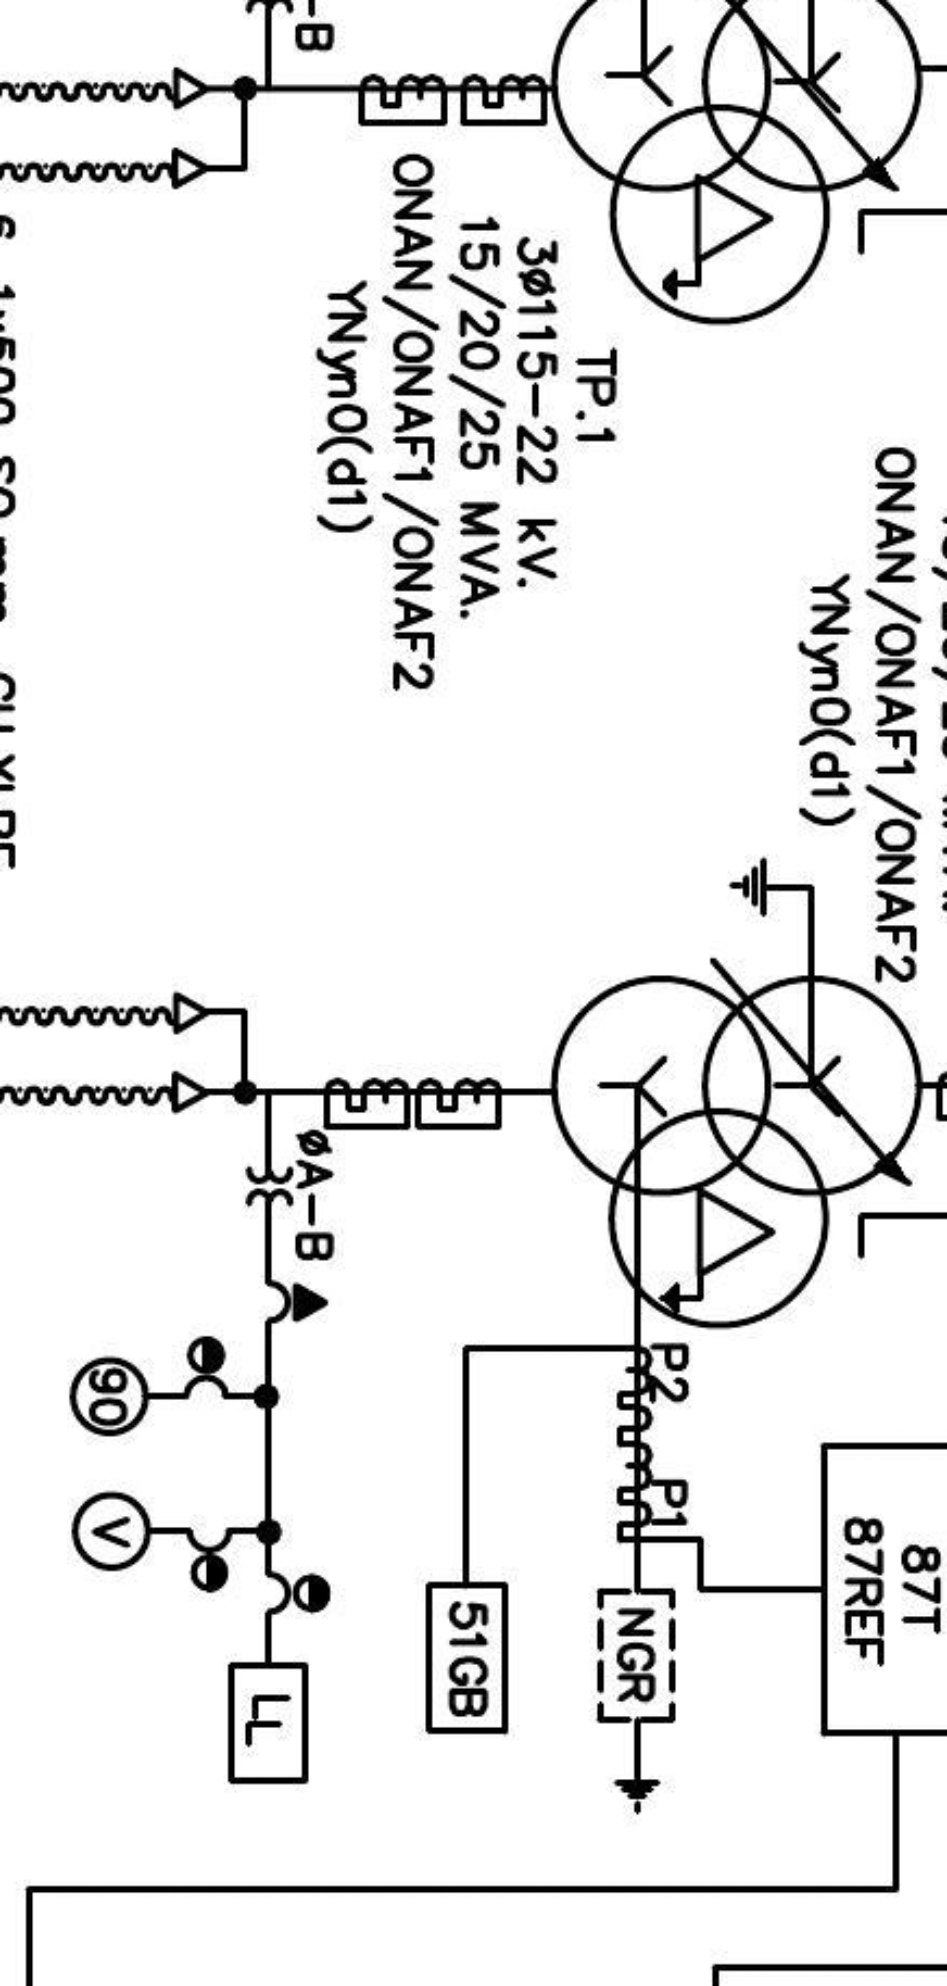11522_tx_ynyn0d1: (548, 973, 924, 1331)
LL: (228, 1659, 309, 1786)
NGR_future: (595, 1586, 676, 1816)
terminator_double: (171, 990, 249, 1116), (171, 66, 249, 190)
v_m: (68, 1489, 153, 1573)
